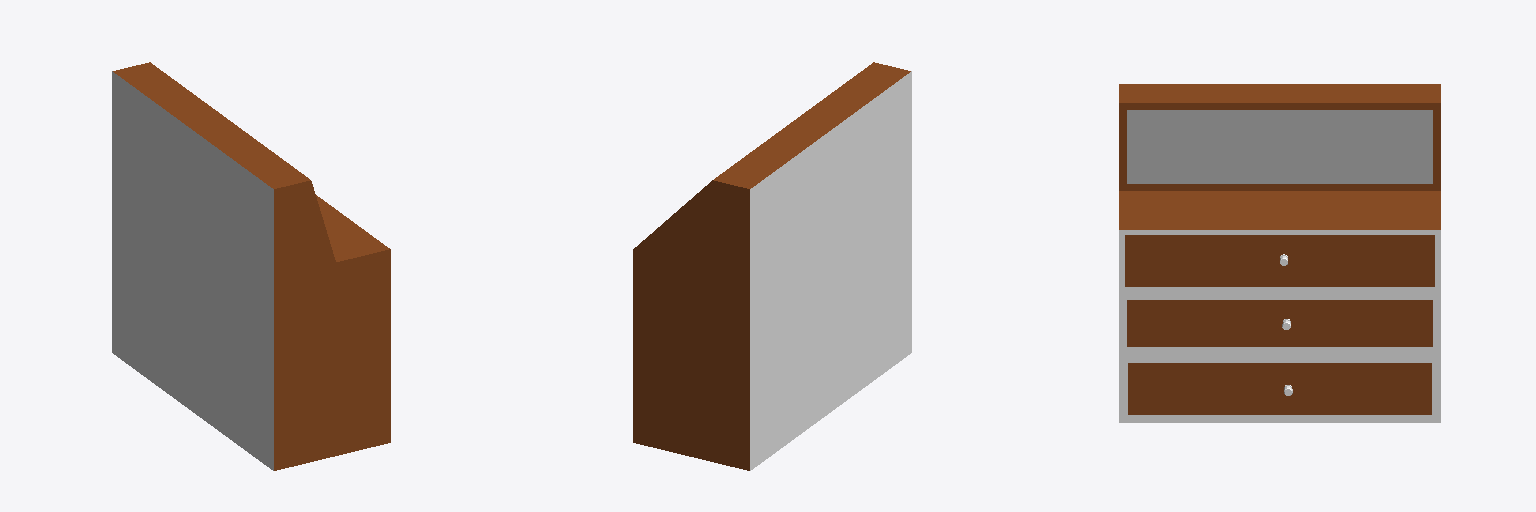
Rendered from dresserWhite.obj.
3 renders of one model, left to right at view 1: azimuth 30°, elevation 25°; view 2: azimuth 150°, elevation 25°; view 3: azimuth 270°, elevation 25°, orthographic.
Visible parts, largest first — view 1: Mesh4 Dresser1 dresserWhite1 Model; view 2: Mesh4 Dresser1 dresserWhite1 Model; view 3: Mesh4 Dresser1 dresserWhite1 Model.
Part boxes in pixels (bbox=[...]): Mesh4 Dresser1 dresserWhite1 Model: bbox=[112, 62, 390, 470]; Mesh4 Dresser1 dresserWhite1 Model: bbox=[633, 62, 911, 470]; Mesh4 Dresser1 dresserWhite1 Model: bbox=[1119, 84, 1440, 422].
Size of the model in its own units: 0.6402 by 1.37 by 1.42.